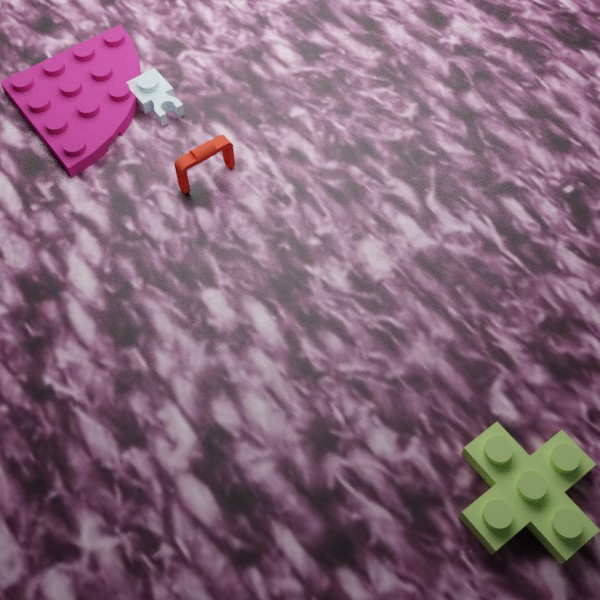lego: (0, 24, 142, 177), (458, 421, 600, 564), (174, 134, 235, 194), (124, 68, 184, 126)
